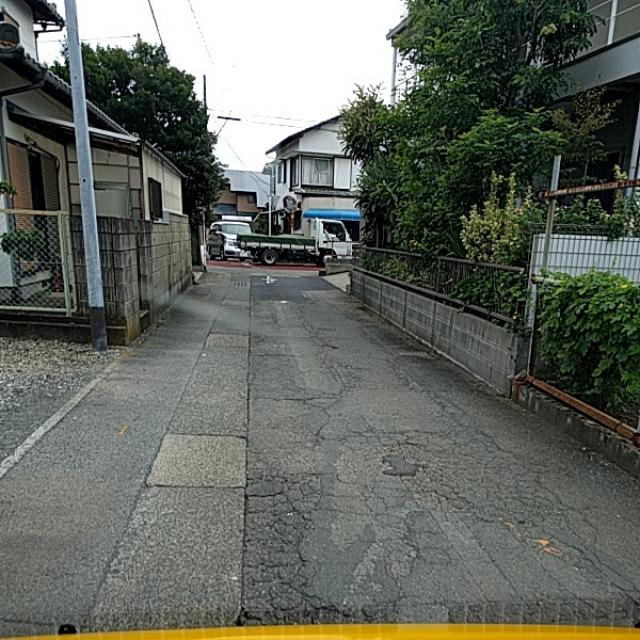pothole: (390, 413, 612, 598), (255, 388, 342, 626)
